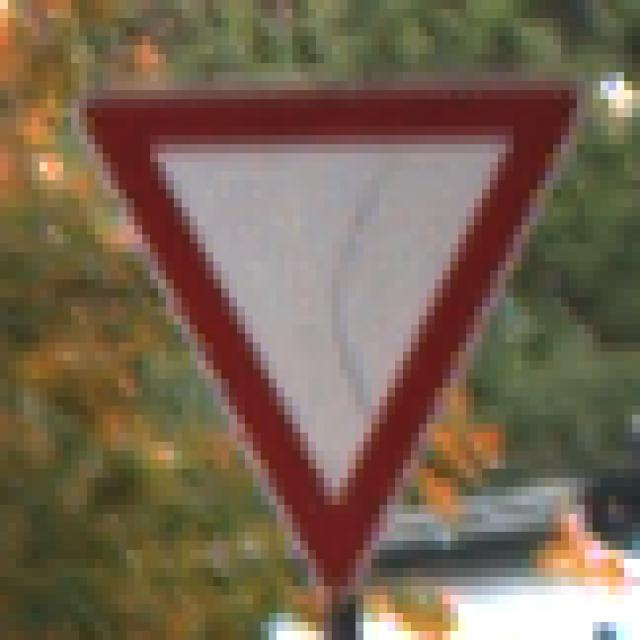Give Way: (64, 64, 578, 587)
